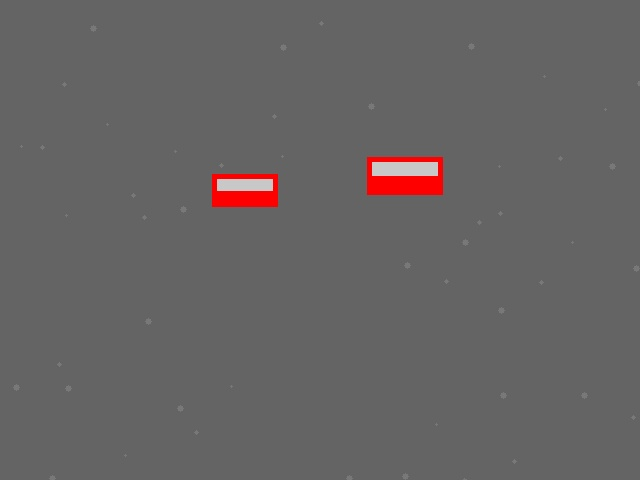car: (367, 157, 442, 194), (212, 174, 277, 206)
